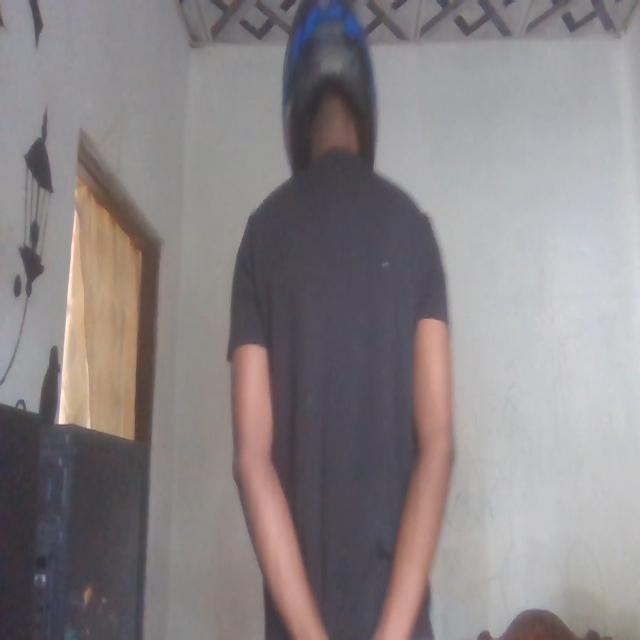Helmet_Wearer: (270, 0, 380, 188)
Person: (220, 0, 450, 640)
